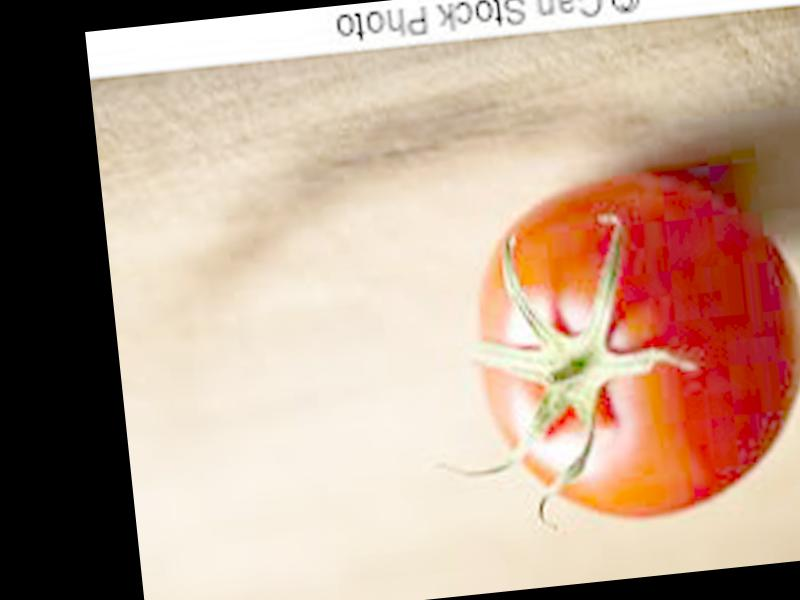Tomato: (457, 160, 800, 529)
